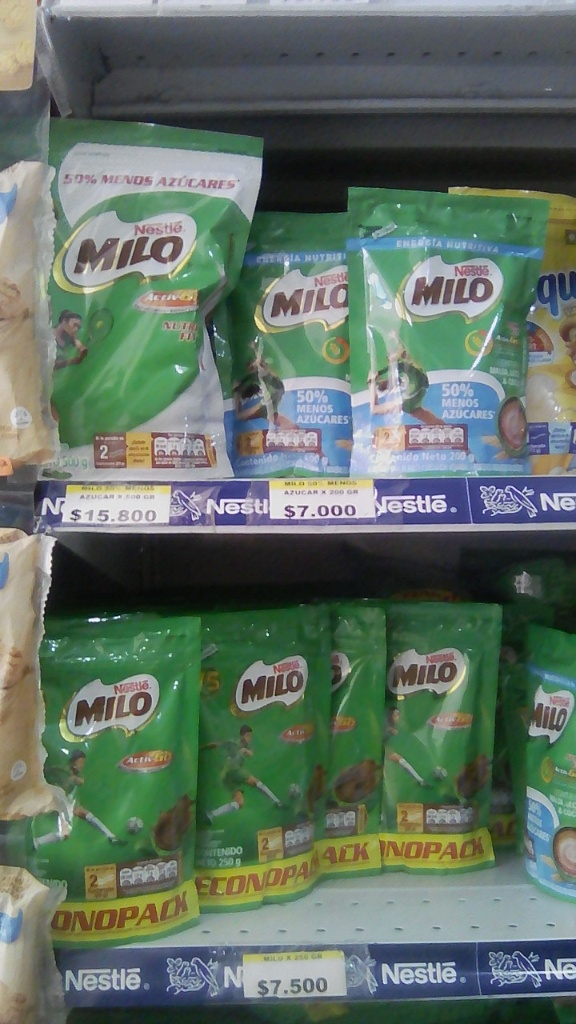COL0170203DYP25000: (25, 610, 212, 941)
COL0170205DYP20000: (248, 200, 362, 482)
COL0170205DYP50000: (29, 113, 267, 479)
COL0170306DYP20000: (513, 184, 576, 474)
